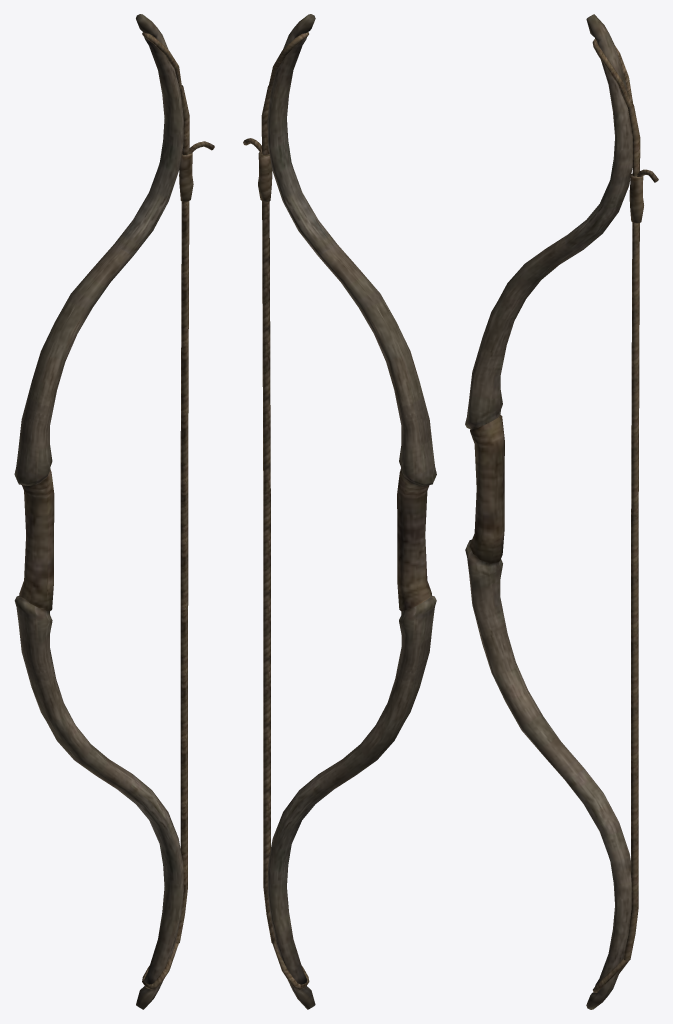
File: weapon-wp_a_1406.glb
The picture shows the model from 3 angles, left to right: view 1: azimuth 30°, elevation 25°; view 2: azimuth 150°, elevation 25°; view 3: azimuth 330°, elevation 25°; orthographic projection.
Parts seen in each view (by area): view 1: wp_a_1406_mesh; view 2: wp_a_1406_mesh; view 3: wp_a_1406_mesh.
Boxes of the visible parts, x1,y1,x2,y2 form: wp_a_1406_mesh: [14, 14, 214, 1009]; wp_a_1406_mesh: [243, 14, 436, 1009]; wp_a_1406_mesh: [465, 14, 658, 1009].
Bounding box in the file's own units: 0.2339 × 1.15 × 0.051.
Materials: 1 (1 with a texture image).
